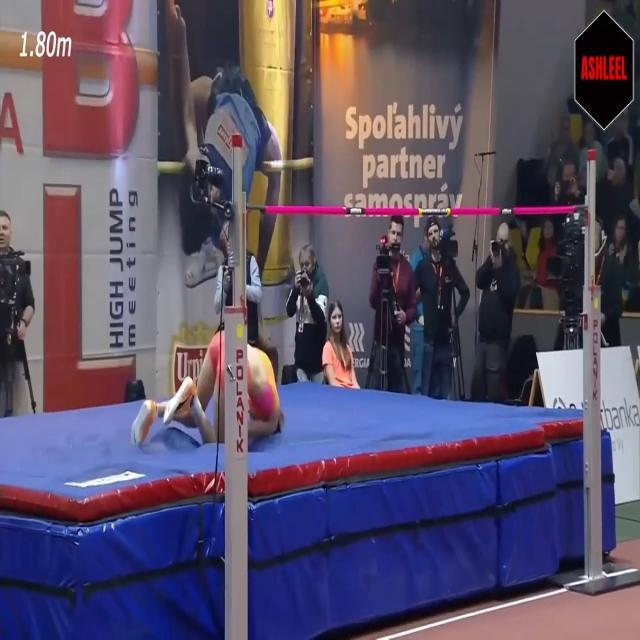land: (130, 332, 284, 446)
